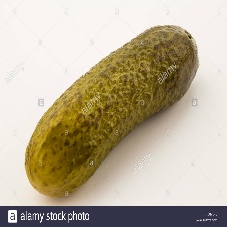cucumber: (24, 26, 200, 197)
